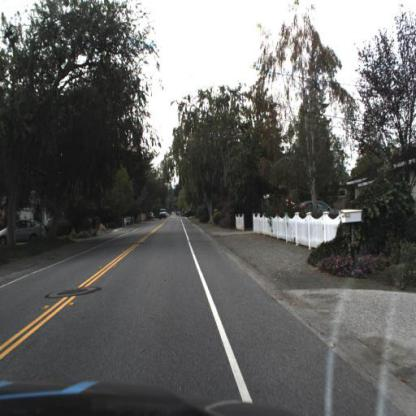car: (2, 217, 43, 243)
